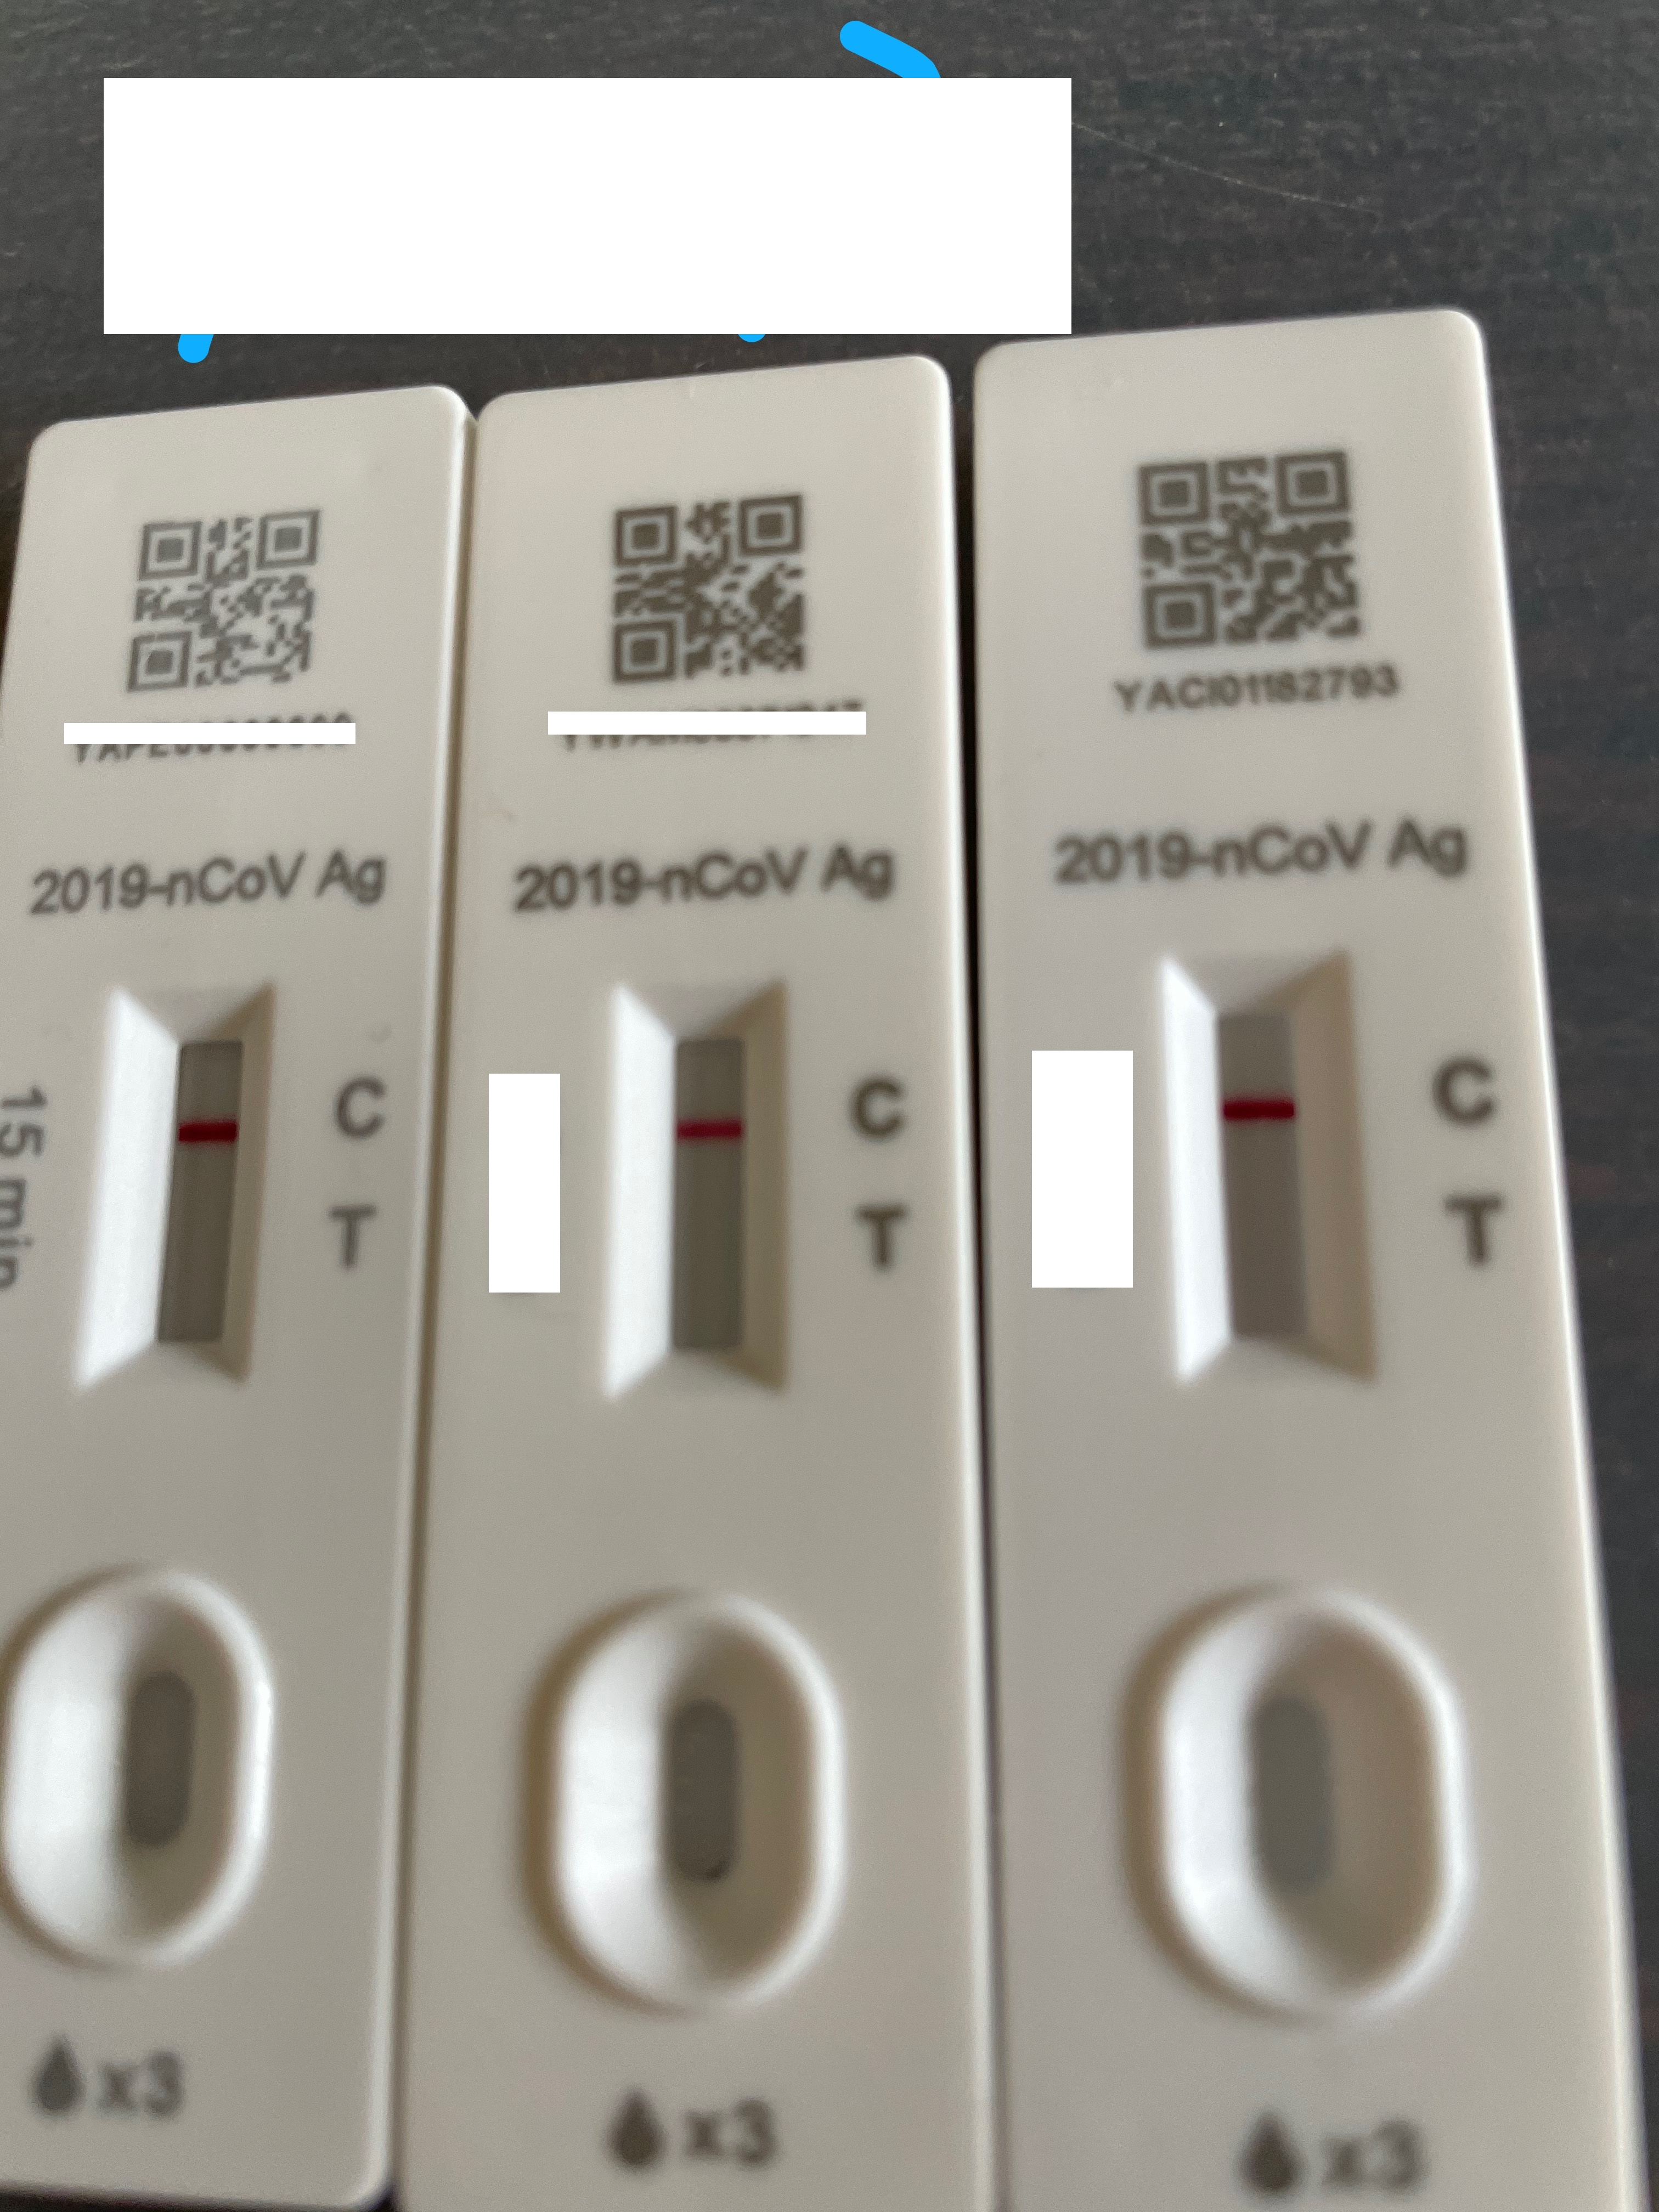negative: (1178, 948, 1354, 1407), (141, 1019, 258, 1383), (660, 1012, 767, 1402)
